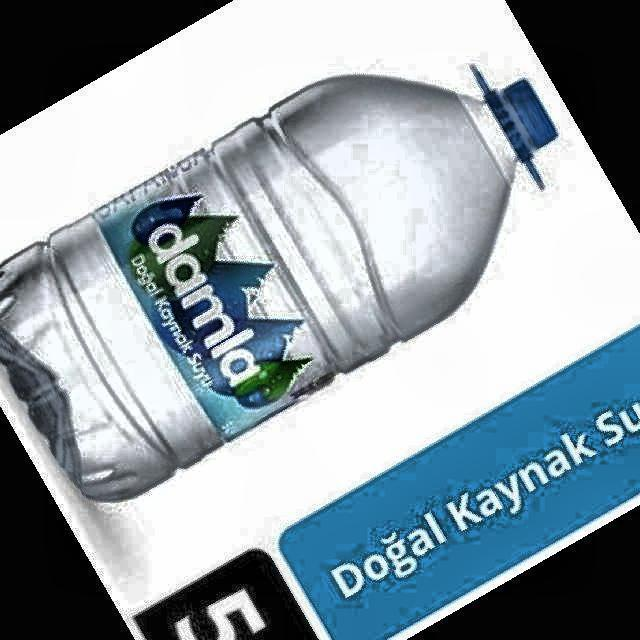plastic: (0, 66, 558, 501)
